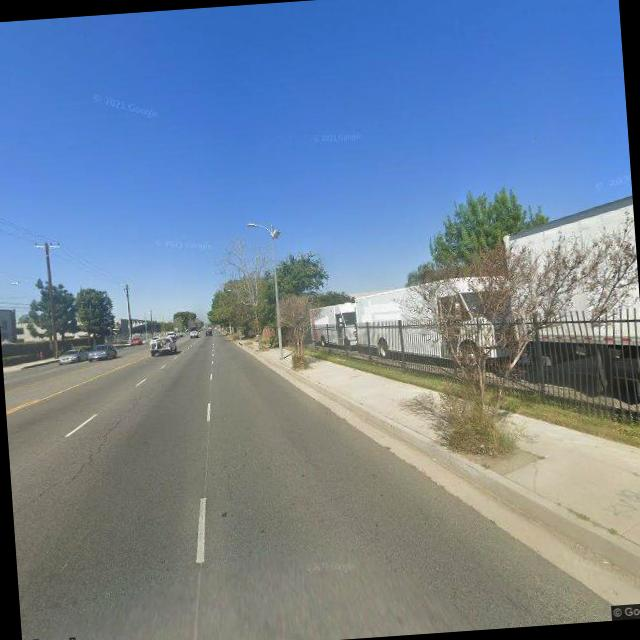crack: (45, 391, 142, 490)
